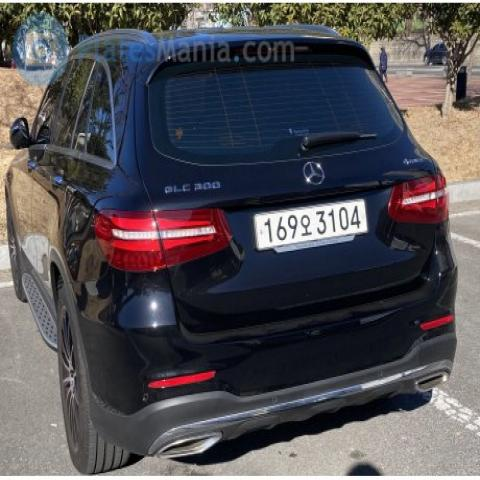LP: (245, 190, 379, 258)
